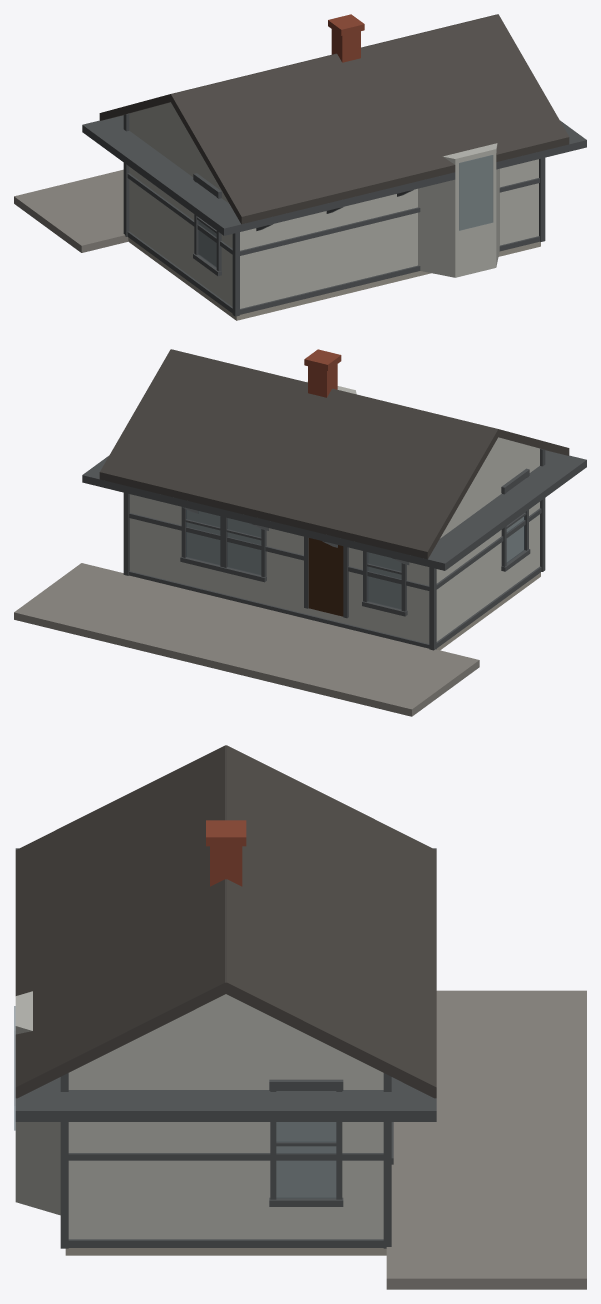
Rendered from Standard_02_Depot.glb.
The picture shows the model from 3 angles, top to bottom: view 1: azimuth 30°, elevation 25°; view 2: azimuth 150°, elevation 25°; view 3: azimuth 270°, elevation 25°; orthographic projection. The views are drawn at different scales.
Parts seen in each view (by area): view 1: roof, walls, trim, platform, glass, foundation, chimney, sash; view 2: roof, platform, walls, trim, glass, sash, doors, chimney, foundation; view 3: roof, walls, platform, trim, glass, sash, foundation, chimney.
Boxes of the visible parts, left/top/right/bottom form: roof: left=99, top=14, right=569, bottom=224; walls: left=129, top=102, right=538, bottom=308; trim: left=82, top=113, right=586, bottom=316; platform: left=14, top=169, right=128, bottom=252; glass: left=198, top=155, right=492, bottom=266; foundation: left=128, top=237, right=540, bottom=320; chimney: left=328, top=14, right=364, bottom=62; sash: left=193, top=173, right=221, bottom=276; roof: left=99, top=349, right=569, bottom=559; platform: left=14, top=563, right=479, bottom=716; walls: left=130, top=381, right=539, bottom=643; trim: left=82, top=448, right=586, bottom=650; glass: left=186, top=510, right=524, bottom=608; sash: left=180, top=468, right=530, bottom=616; doors: left=308, top=538, right=343, bottom=616; chimney: left=304, top=349, right=341, bottom=397; foundation: left=436, top=572, right=540, bottom=650; roof: left=15, top=745, right=436, bottom=1098; walls: left=15, top=991, right=383, bottom=1239; platform: left=386, top=990, right=586, bottom=1289; trim: left=15, top=848, right=436, bottom=1248; glass: left=14, top=1006, right=335, bottom=1197; sash: left=269, top=1079, right=393, bottom=1206; foundation: left=65, top=1248, right=386, bottom=1255; chimney: left=206, top=820, right=246, bottom=886.
Size of the model in its own units: 0.3574 by 0.1881 by 0.3004.
